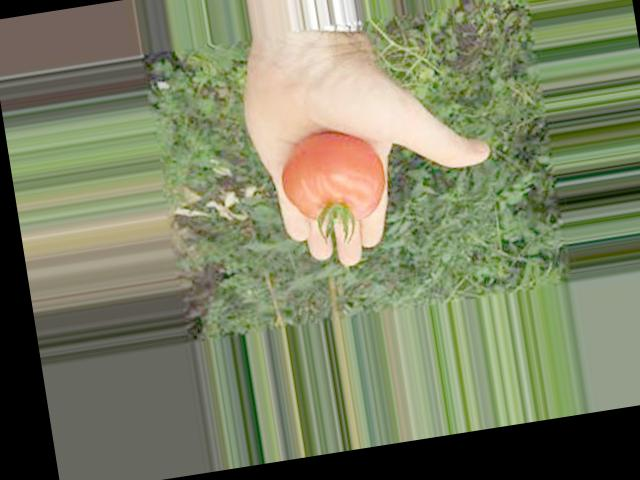tomato: (274, 124, 391, 229)
